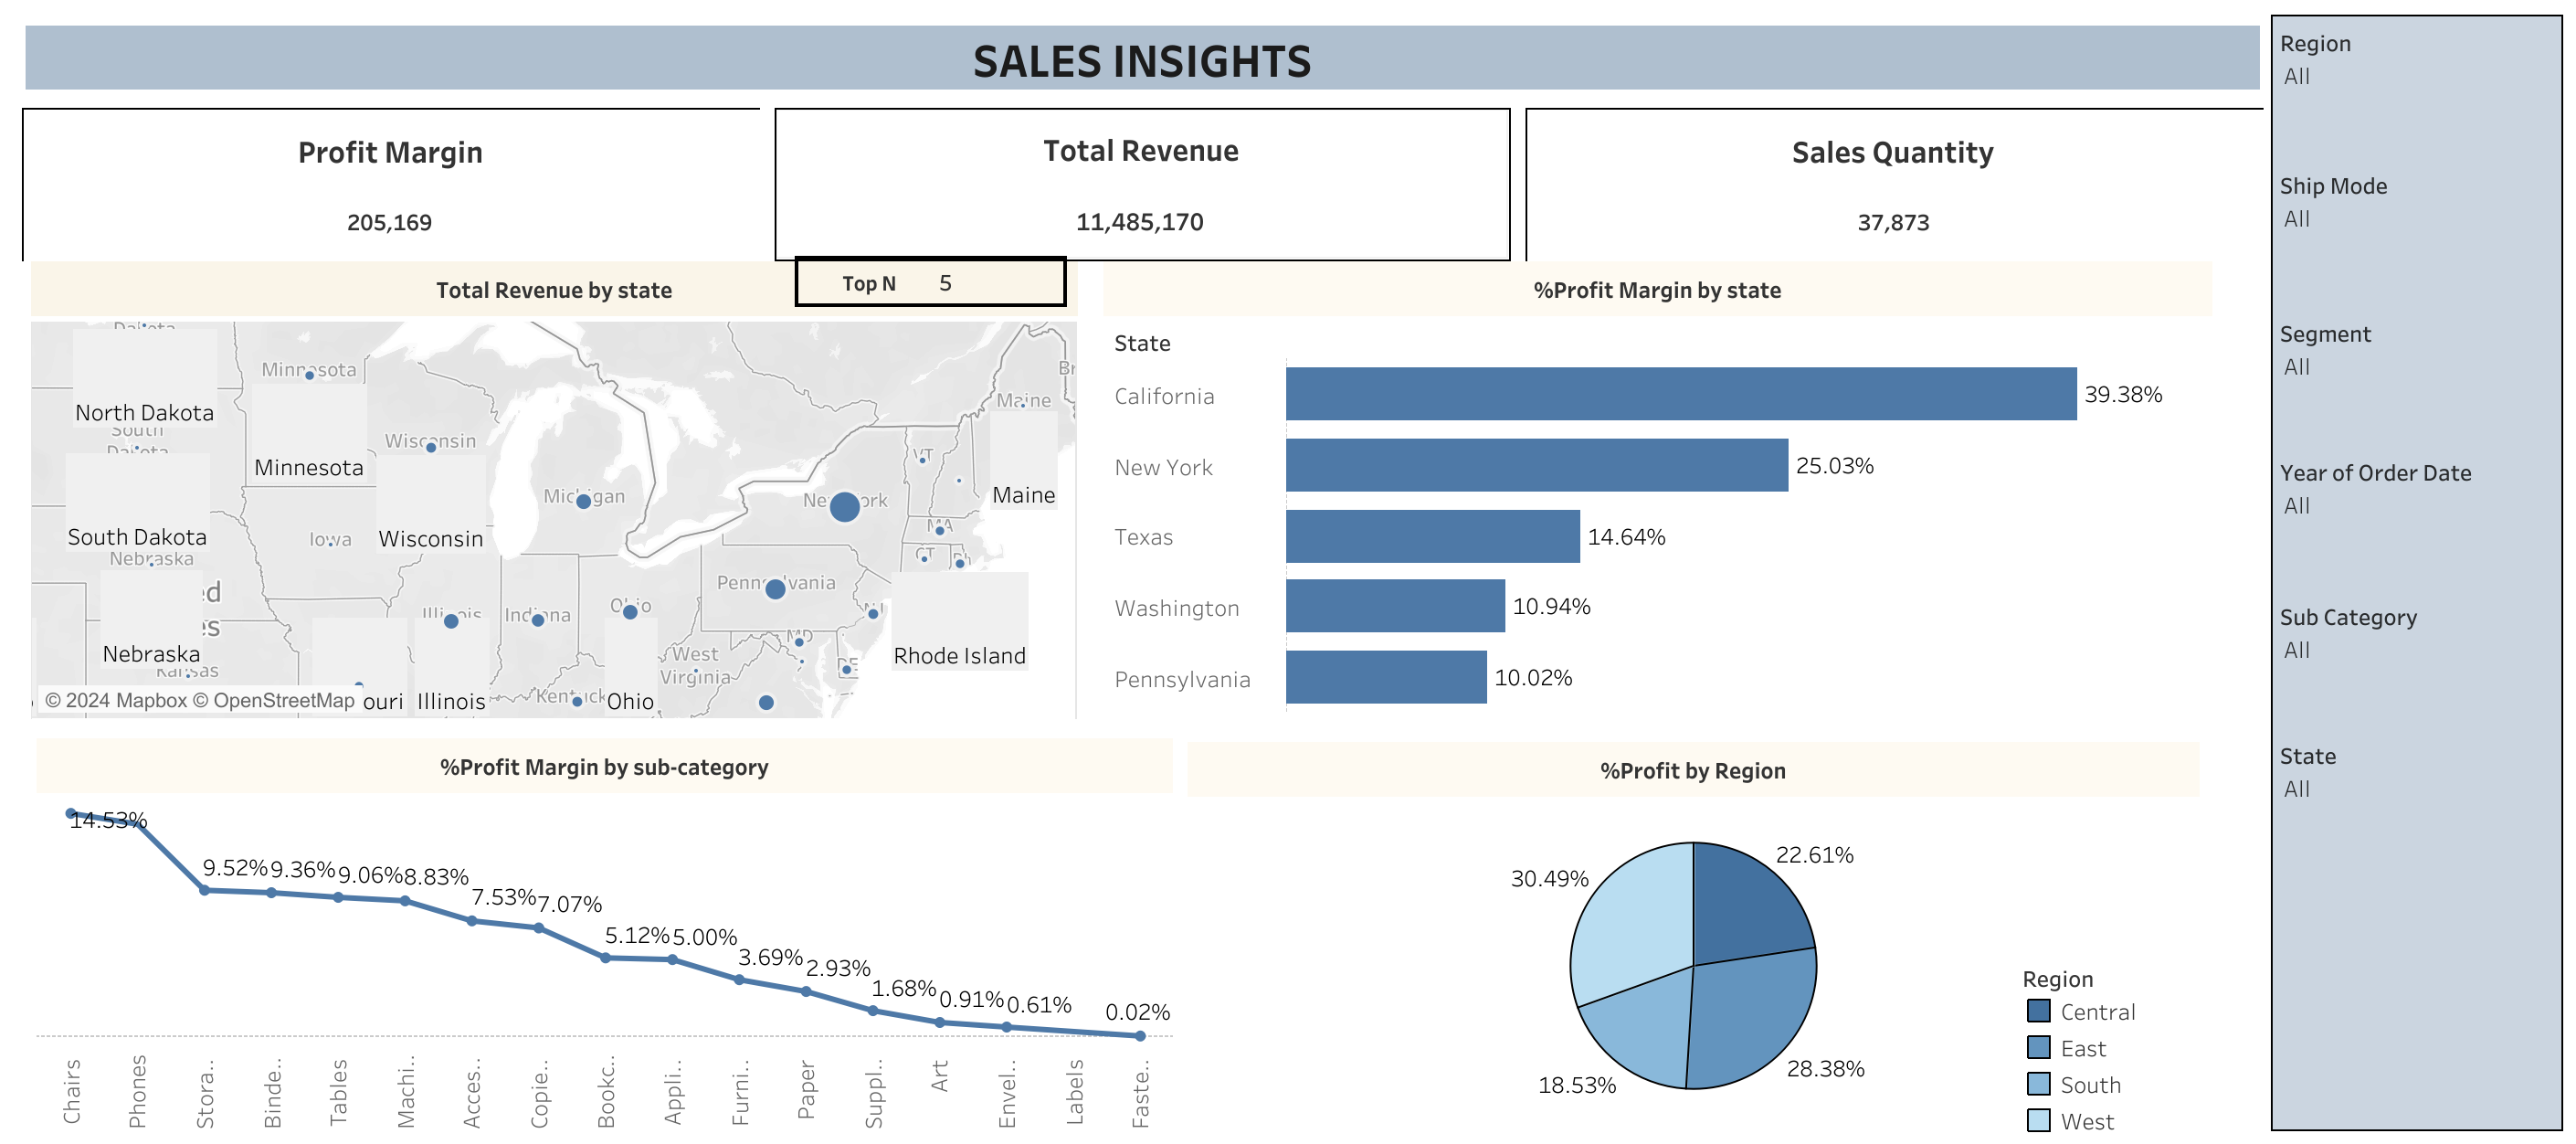

Layout of this report page (visuals, bound fields, positions):
{"tool":"tableau","page":{"name":"Dashboard 1","canvas":[1000,1000],"units":"permille","ordinal":0},"visuals":[{"type":"title","box":[5.7,11.9,875.5,70.2]},{"type":"filter","title":"Total Revenue","param":"[federated.11ecdyh178x9yi124hrkc0dyc3br].[none:region:nk]","box":[881.9,13.4,111.7,116.4]},{"type":"worksheet","title":"Profit Margin","mark":"Automatic","box":[5.7,82.1,291.8,137.3]},{"type":"worksheet","title":"Total Revenue","mark":"Automatic","box":[297.5,82.1,291.8,137.3]},{"type":"worksheet","title":"Sales quantity","mark":"Automatic","box":[589.3,82.1,291.8,137.3]},{"type":"filter","title":"Total Revenue","param":"[federated.11ecdyh178x9yi124hrkc0dyc3br].[none:ship_mode:nk]","box":[881.9,129.8,111.7,120.9]},{"type":"worksheet","title":"Total Revenue by state","mark":"Automatic","box":[8.9,220.9,412.4,413.4]},{"type":"worksheet","title":"%profit by state  ","mark":"Automatic","rows":["country","state"],"cols":["profit"],"box":[425.3,222.4,435.8,406]},{"type":"parameter","param":"[Parameters].[Parameter 1]","box":[308.3,223.9,105.7,43.3]},{"type":"filter","title":"Total Revenue","param":"[federated.11ecdyh178x9yi124hrkc0dyc3br].[none:segment:nk]","box":[881.9,250.8,111.7,113.4]},{"type":"filter","title":"Total Revenue","param":"[federated.11ecdyh178x9yi124hrkc0dyc3br].[yr:order_date:ok]","box":[881.9,364.2,111.7,117.9]},{"type":"filter","title":"Total Revenue","param":"[federated.11ecdyh178x9yi124hrkc0dyc3br].[none:sub_category:nk]","box":[881.9,482.1,111.7,113.4]},{"type":"filter","title":"Total Revenue","param":"[federated.11ecdyh178x9yi124hrkc0dyc3br].[none:state:nk]","box":[881.9,595.5,111.7,77.6]},{"type":"worksheet","title":"%profit margin by sub-category","mark":"Line","cols":["sub_category"],"box":[11.3,637.3,446.3,358.2]},{"type":"worksheet","title":"%profit by Region","mark":"Pie","box":[457.6,641.8,398.7,350.8]},{"type":"legend","title":"%profit by Region","param":"[federated.11ecdyh178x9yi124hrkc0dyc3br].[none:region:nk]","box":[783.7,835.8,70.2,156.7]}]}

Visuals, with their boxes on the dashboard's canvas, which has no fixed pixel size, in thousandths of its width and height (x1, y1, x2, y2). These are canvas units, not pixel positions in the 2576x1144 screenshot, which may show the page scaled, cropped or inside an application window:
title: box(6, 12, 881, 82)
"Total Revenue" filter: box(882, 13, 994, 130)
"Profit Margin" worksheet: box(6, 82, 298, 219)
"Total Revenue" worksheet: box(298, 82, 589, 219)
"Sales quantity" worksheet: box(589, 82, 881, 219)
"Total Revenue" filter: box(882, 130, 994, 251)
"Total Revenue by state" worksheet: box(9, 221, 421, 634)
"%profit by state  " worksheet: box(425, 222, 861, 628)
parameter: box(308, 224, 414, 267)
"Total Revenue" filter: box(882, 251, 994, 364)
"Total Revenue" filter: box(882, 364, 994, 482)
"Total Revenue" filter: box(882, 482, 994, 596)
"Total Revenue" filter: box(882, 596, 994, 673)
"%profit margin by sub-category" worksheet (Line marks): box(11, 637, 458, 996)
"%profit by Region" worksheet (Pie marks): box(458, 642, 856, 993)
"%profit by Region" legend: box(784, 836, 854, 992)
